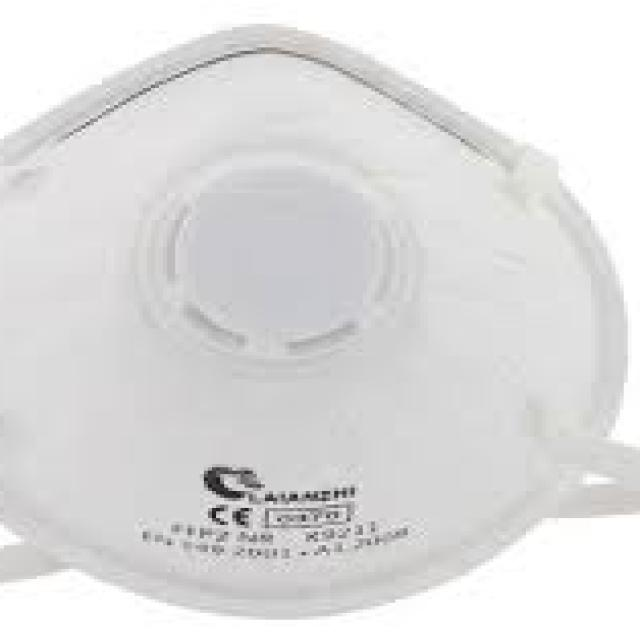organic: (18, 22, 618, 589)
